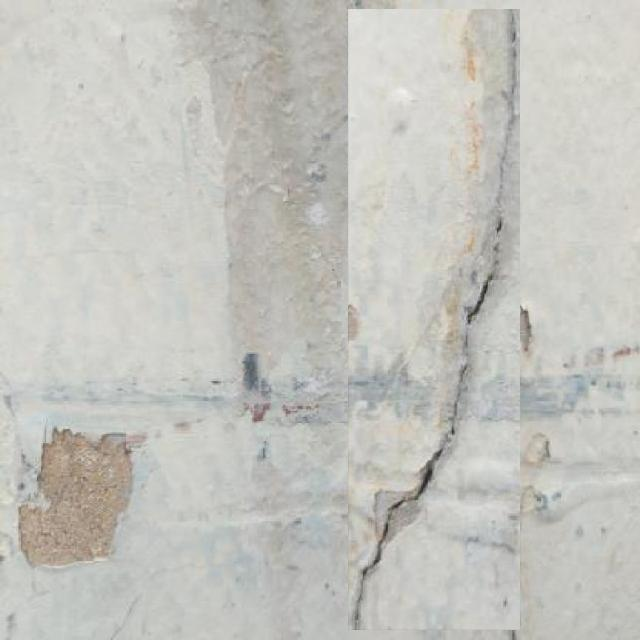diagonal crack: (349, 10, 520, 629)
